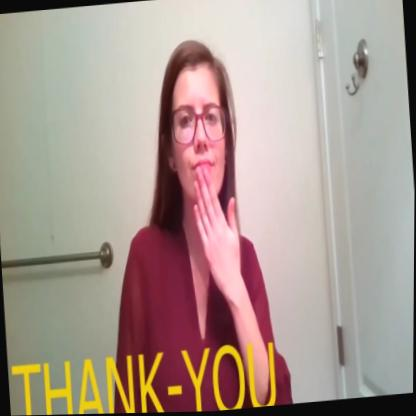ThankYou: (160, 35, 252, 335)
